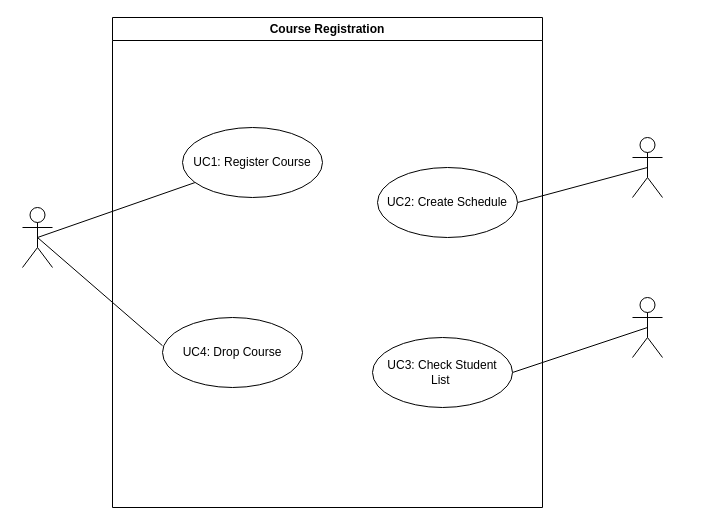
This 705x525 diagram has some shape labels left out. Each missing label, with the centre of its shape:
"Academic Staff" belongs at pixel 647 167.
"Lecturer" belongs at pixel 647 327.
"Student" belongs at pixel 37 237.
